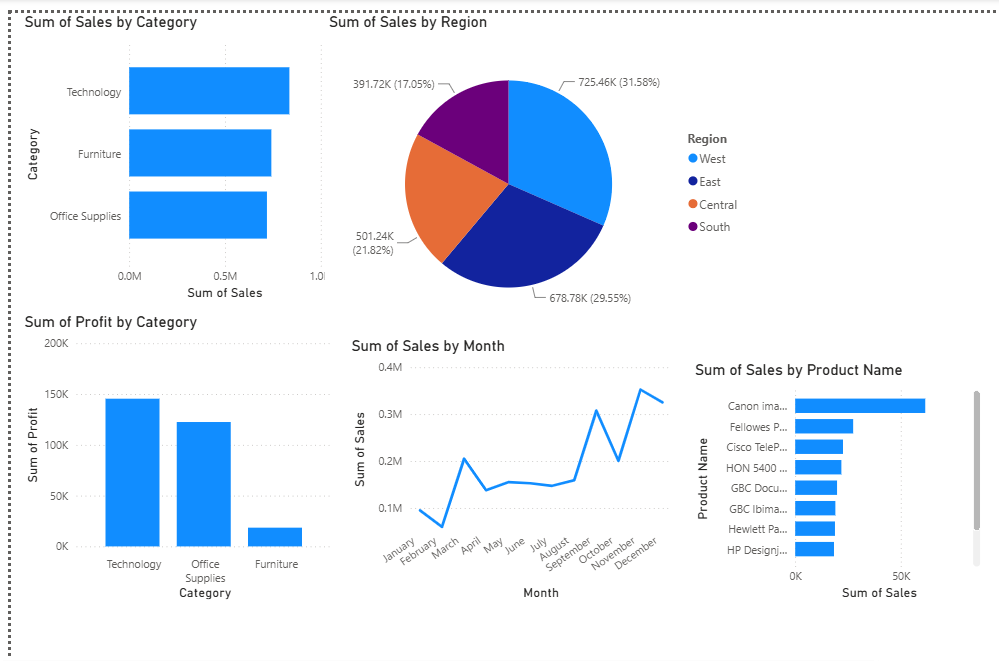

This screenshot's page, from the dashboard's own definition file:
{"tool":"powerbi","page":{"name":"Page 1","canvas":[1280,720],"ordinal":0},"visuals":[{"type":"barChart","fields":{"Category":["Orders.Category"],"Y":["Sum(Orders.Sales)"]},"box":[10,0,352.9,322.9],"z":0},{"type":"columnChart","fields":{"Category":["Orders.Category"],"Y":["Sum(Orders.Profit)"]},"box":[10,333,353,323],"z":1000},{"type":"pieChart","fields":{"Category":["Orders.Region"],"Y":["Sum(Orders.Sales)"]},"box":[348.3,0,473.3,360],"z":2000},{"type":"lineChart","fields":{"Category":["Orders.Order Date.Variation.Date Hierarchy.Month"],"Y":["Sum(Orders.Sales)"]},"box":[373.3,360,365,296.7],"z":3000},{"type":"barChart","fields":{"Category":["Orders.Product Name"],"Y":["Sum(Orders.Sales)"]},"box":[755,386.7,326.7,270],"z":4000}]}

Visuals, with their boxes on the page's 1280x720 design canvas (x1, y1, x2, y2). These are canvas units, not pixel positions in the 999x661 screenshot, which may show the page scaled, cropped or inside an application window:
barChart - Orders.Category x Sum(Orders.Sales): 10 0 363 323
columnChart - Orders.Category x Sum(Orders.Profit): 10 333 363 656
pieChart - Orders.Region x Sum(Orders.Sales): 348 0 822 360
lineChart - Orders.Order Date.Variation.Date Hierarchy.Month x Sum(Orders.Sales): 373 360 738 657
barChart - Orders.Product Name x Sum(Orders.Sales): 755 387 1082 657
